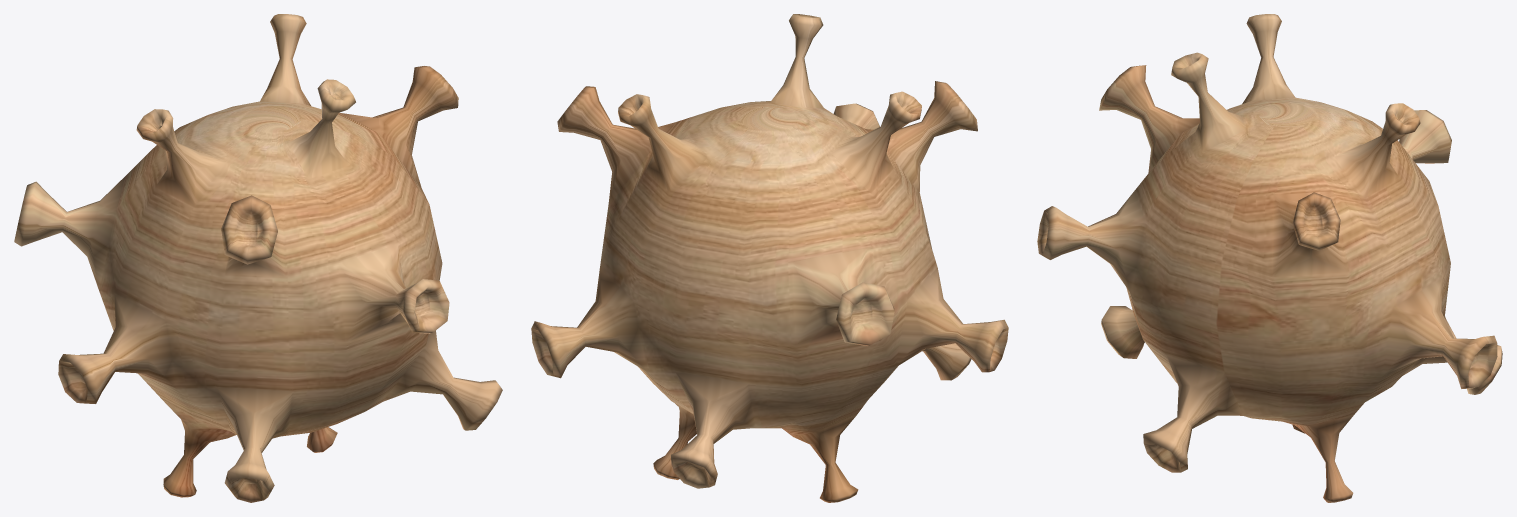
The model's file is virus.obj.
3 renders of one model, left to right at view 1: azimuth 30°, elevation 25°; view 2: azimuth 150°, elevation 25°; view 3: azimuth 270°, elevation 25°, orthographic. The views are drawn at different scales.
Size of the model in its own units: 46.95 by 46.73 by 46.85.
Materials: 1 (1 with a texture image).
